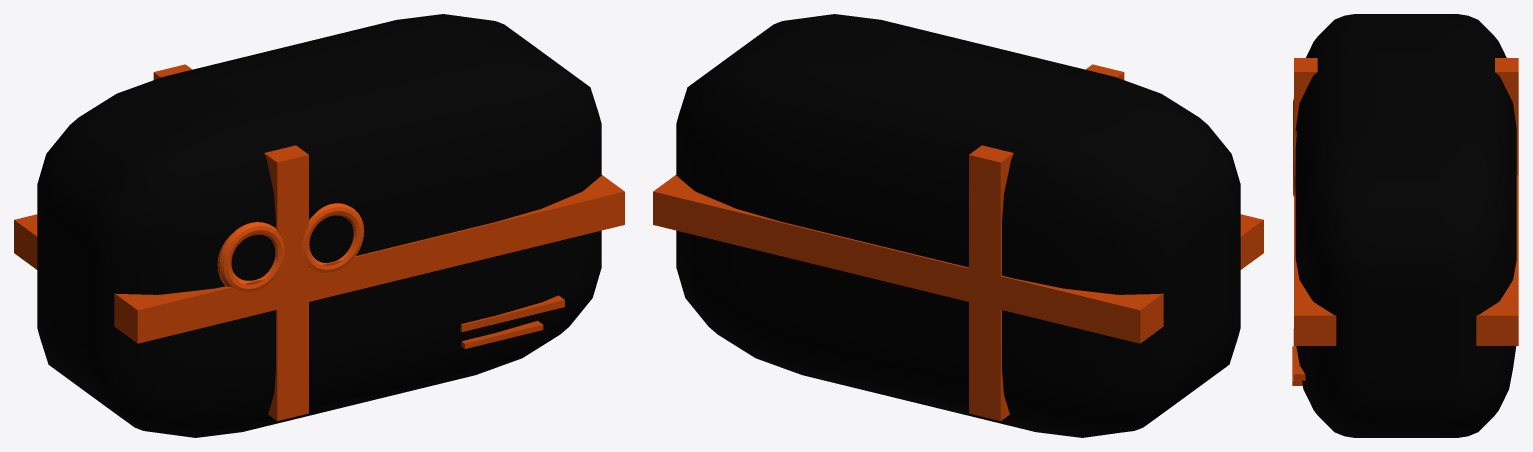
The model's file is giftcard.obj.
3 views of the same model, side by side, from view 1: azimuth 30°, elevation 25°; view 2: azimuth 150°, elevation 25°; view 3: azimuth 270°, elevation 25° (orthographic). The views are drawn at different scales.
Parts seen in each view (by area): view 1: Mball, Cube, Cube.001, Torus, Torus.001, Cube.002, Cube.003; view 2: Mball, Cube, Cube.001; view 3: Mball, Cube, Cube.001, Cube.002.
Boxes of the visible parts, x1=… form: Mball: x1=37, y1=14, x2=601, y2=437; Cube: x1=14, y1=175, x2=624, y2=343; Cube.001: x1=153, y1=64, x2=308, y2=421; Torus: x1=217, y1=222, x2=284, y2=291; Torus.001: x1=302, y1=203, x2=364, y2=272; Cube.002: x1=460, y1=295, x2=564, y2=331; Cube.003: x1=461, y1=320, x2=543, y2=348; Mball: x1=676, y1=14, x2=1240, y2=437; Cube: x1=653, y1=175, x2=1263, y2=343; Cube.001: x1=969, y1=64, x2=1124, y2=421; Mball: x1=1295, y1=14, x2=1516, y2=437; Cube: x1=1294, y1=175, x2=1518, y2=345; Cube.001: x1=1294, y1=58, x2=1518, y2=175; Cube.002: x1=1293, y1=329, x2=1305, y2=380.
Bounding box in the file's own units: 6.21 × 3.64 × 2.67.
